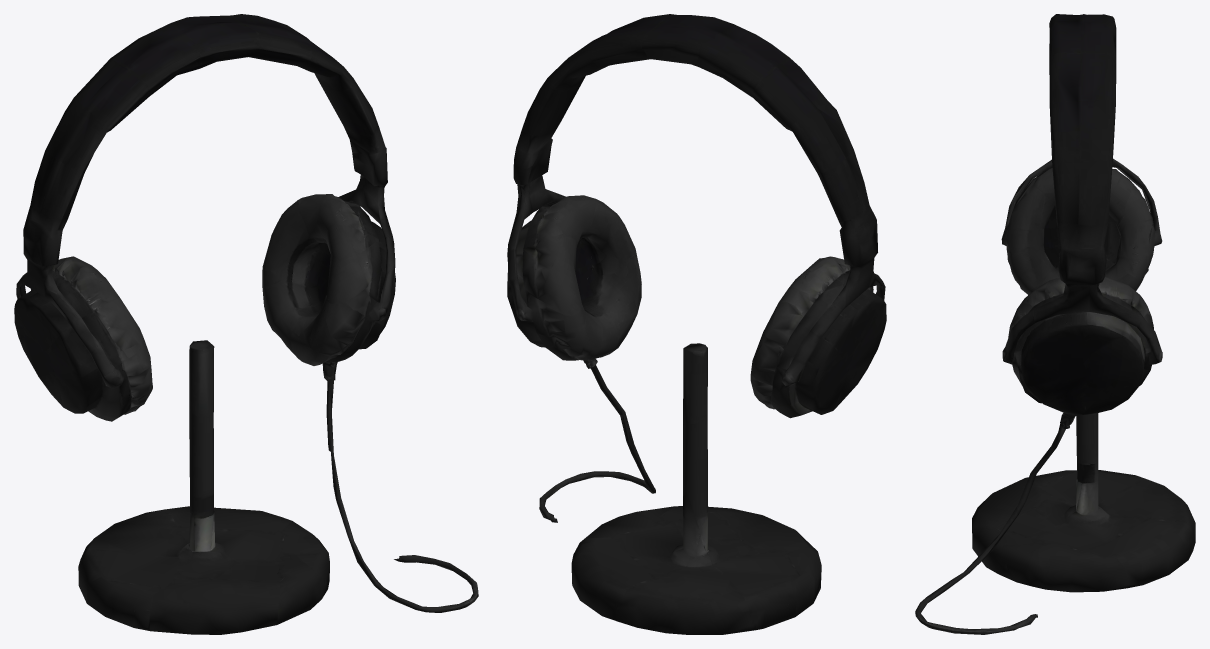
The picture shows the model from 3 angles, left to right: view 1: azimuth 30°, elevation 25°; view 2: azimuth 150°, elevation 25°; view 3: azimuth 270°, elevation 25°; orthographic projection. The views are drawn at different scales.
Bounding box in the file's own units: 1.35 × 1.9 × 0.9373.
1 material, 1 textured.
